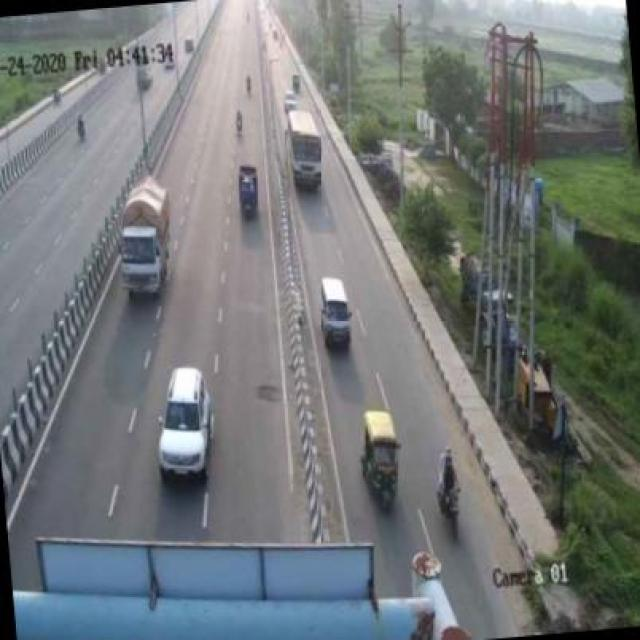car: (127, 357, 231, 484), (112, 172, 183, 306), (310, 270, 362, 356)
